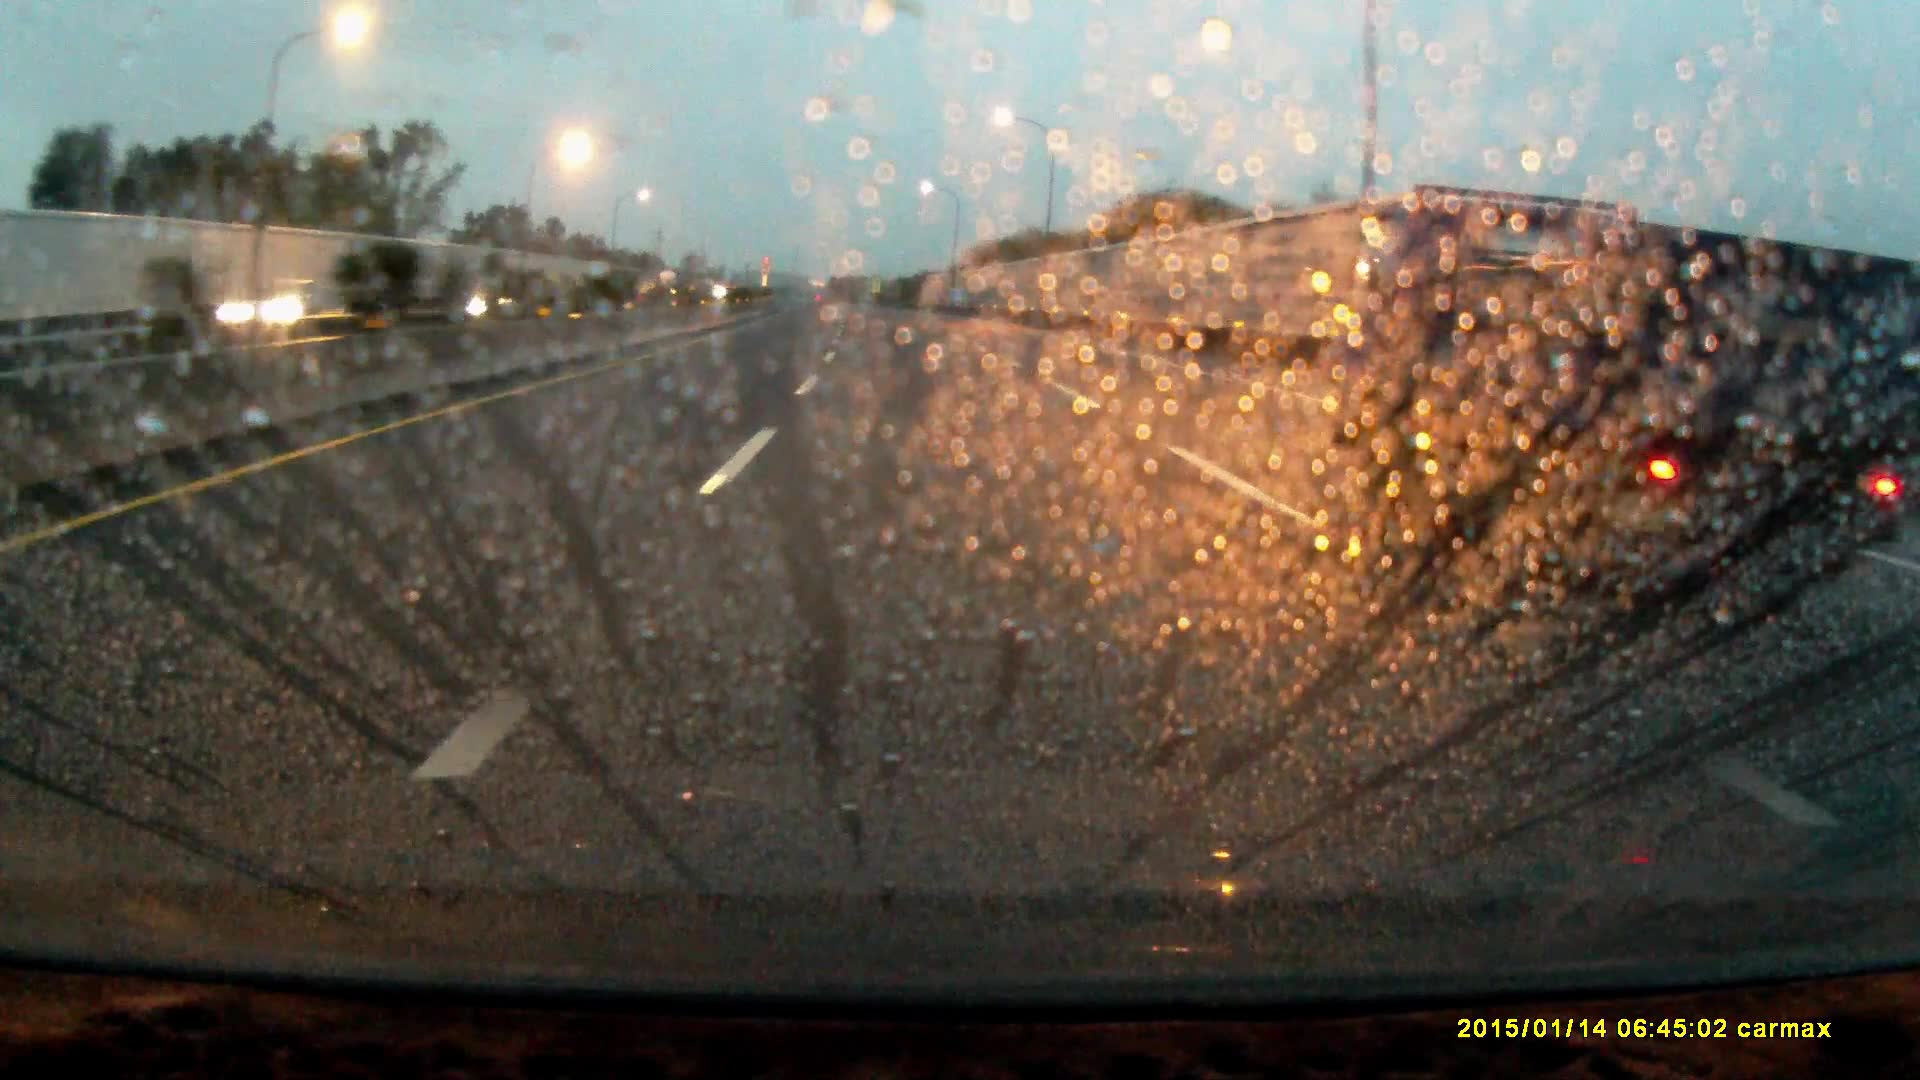vehicle: (1302, 190, 1887, 612), (215, 277, 335, 327), (452, 268, 529, 316), (658, 270, 682, 299)
